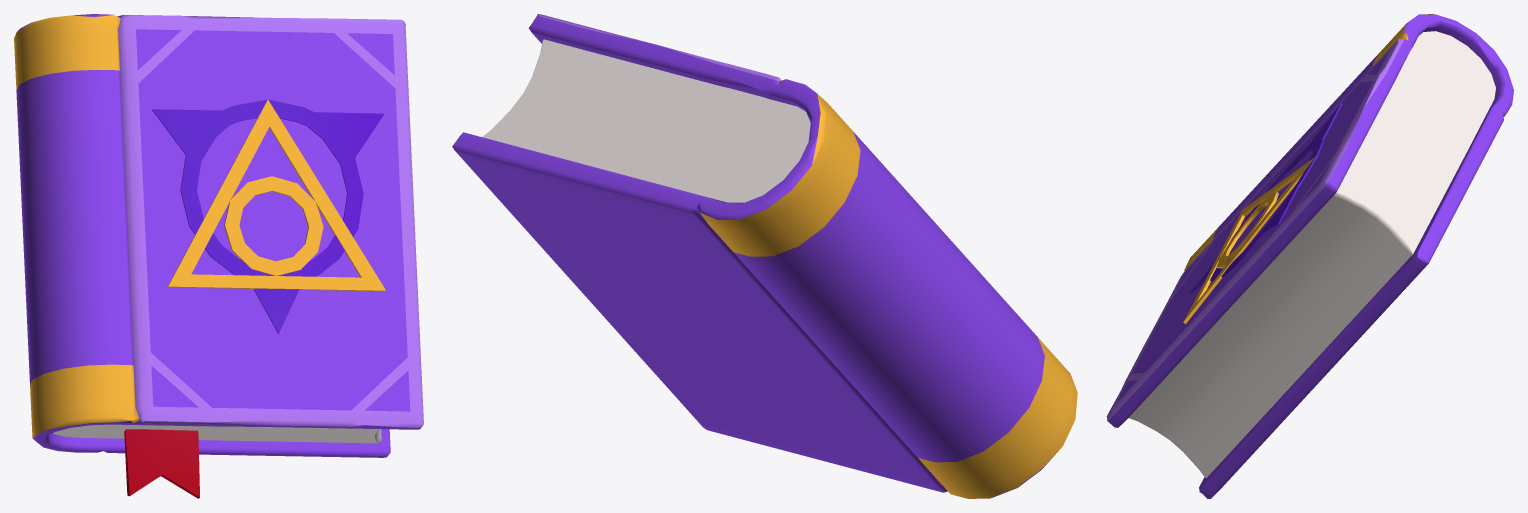
The picture shows the model from 3 angles, left to right: view 1: azimuth 30°, elevation 25°; view 2: azimuth 150°, elevation 25°; view 3: azimuth 270°, elevation 25°; orthographic projection. The views are drawn at different scales.
Visible parts, largest first — view 1: model_1.059; view 2: model_1.059; view 3: model_1.059.
Boxes of the visible parts, x1=… form: model_1.059: x1=14, y1=14, x2=423, y2=498; model_1.059: x1=452, y1=14, x2=1077, y2=498; model_1.059: x1=1106, y1=14, x2=1513, y2=498.
Size of the model in its own units: 4.56 by 4.26 by 4.03.
